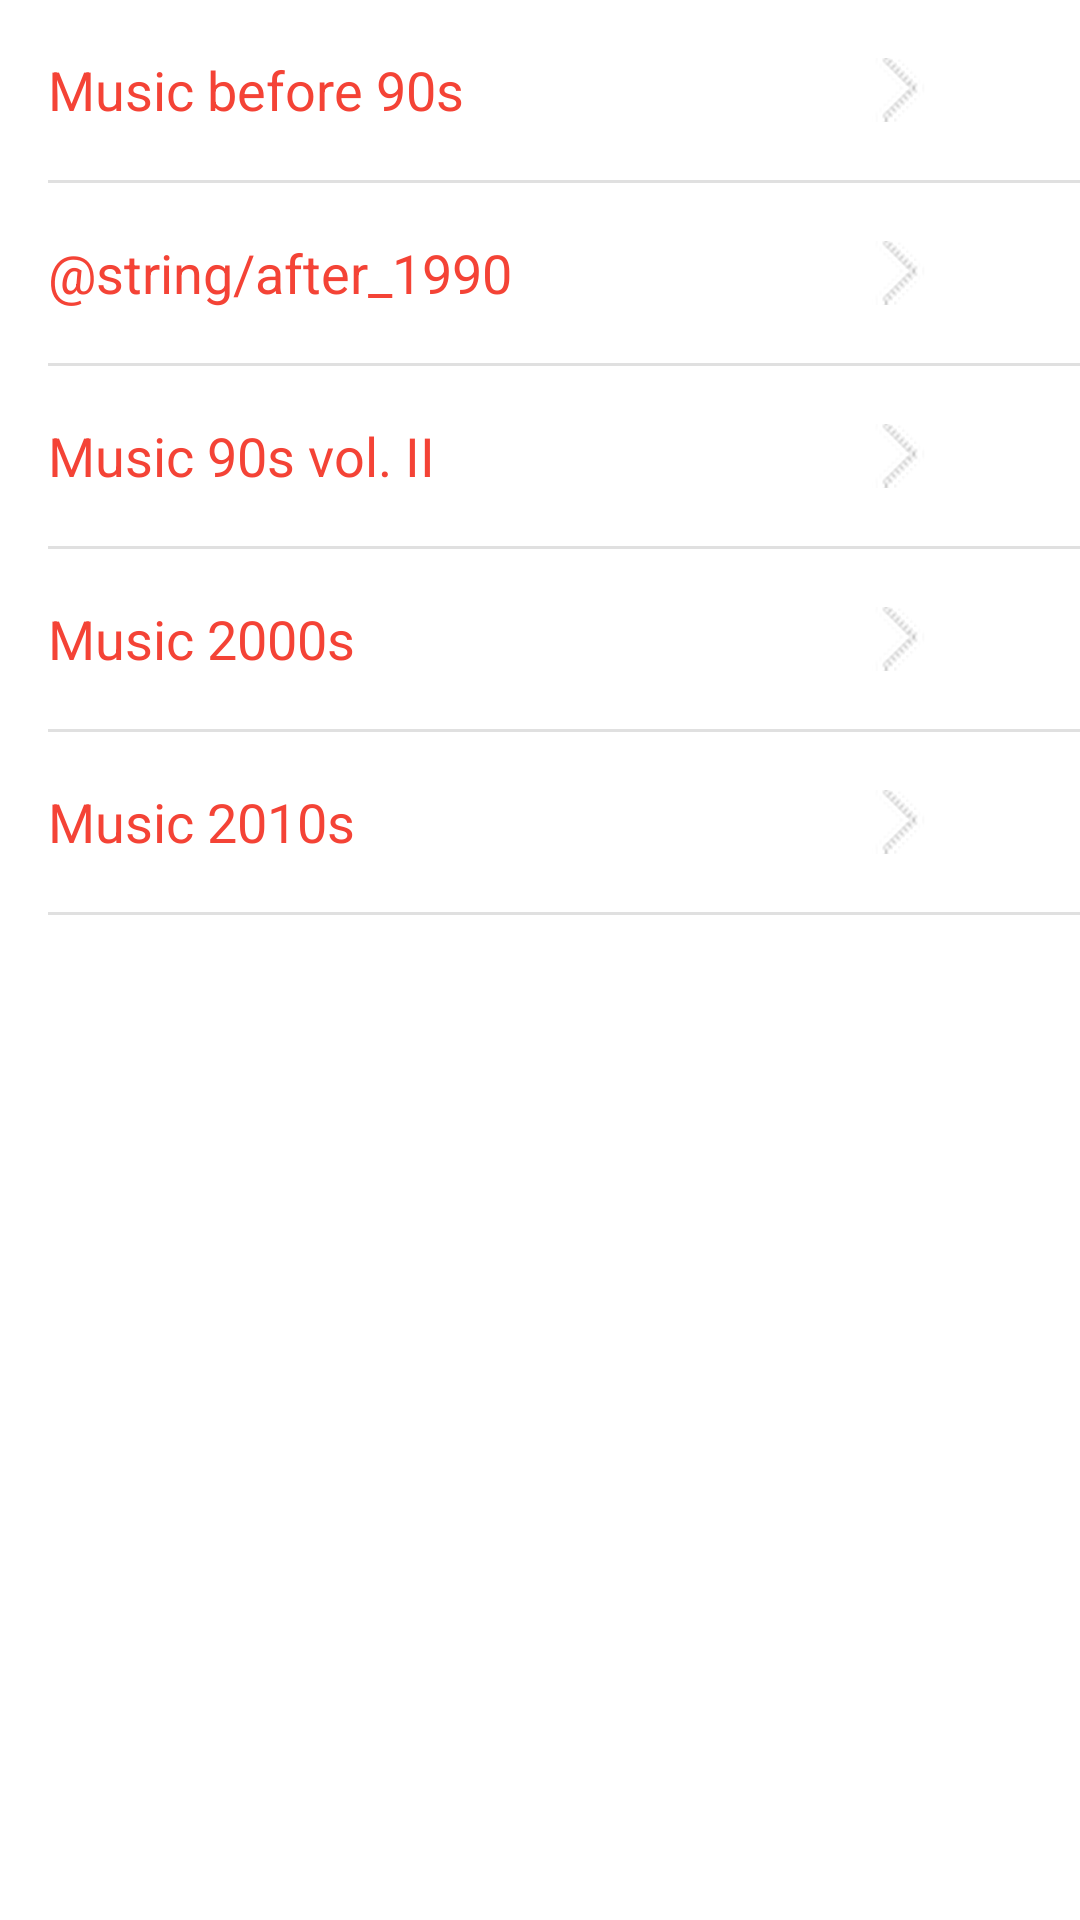

Screen size 1080px×1920px. Icon name, then its center in pixels as [x,y]:
next: [900,90], [900,273], [900,456], [900,639], [900,822]
